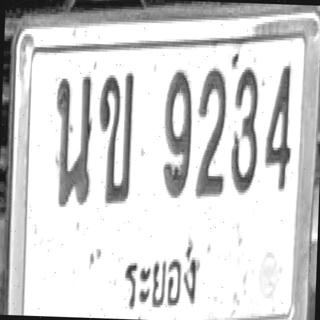A02: (95, 70, 134, 204)
A25: (52, 72, 94, 206)
N02: (195, 65, 228, 197)
N03: (229, 64, 260, 193)
N04: (263, 61, 294, 190)
N09: (161, 68, 193, 197)
P53: (112, 225, 205, 319)
